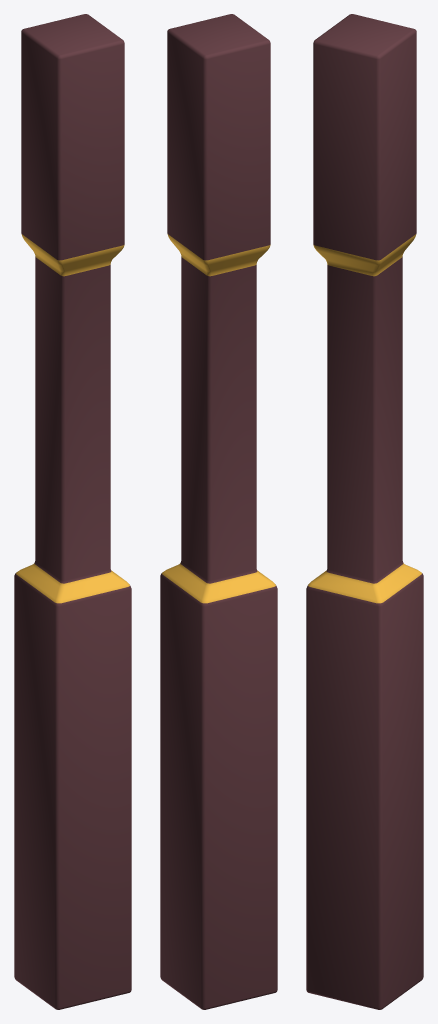
The model's file is FM_H_Doll_BH_Pillar_01_001.fbx.
3 views of the same model, side by side, from view 1: azimuth 30°, elevation 25°; view 2: azimuth 210°, elevation 25°; view 3: azimuth 330°, elevation 25° (orthographic).
Visible parts, largest first — view 1: H_Doll_BH_Pillar_01_001; view 2: H_Doll_BH_Pillar_01_001; view 3: H_Doll_BH_Pillar_01_001.
Boxes of the visible parts, box(x1,y1,x2,y2) form: H_Doll_BH_Pillar_01_001: box(14, 14, 131, 1009); H_Doll_BH_Pillar_01_001: box(160, 14, 277, 1009); H_Doll_BH_Pillar_01_001: box(306, 14, 423, 1009).
Bounding box in the file's own units: 0.5947 × 7.11 × 0.5947.
